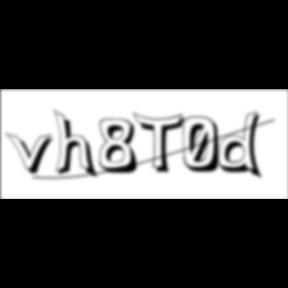0: (182, 115, 228, 174)
8: (100, 117, 144, 176)
T: (133, 112, 191, 176)
d: (218, 110, 268, 182)
h: (54, 108, 101, 182)
v: (6, 131, 60, 177)
